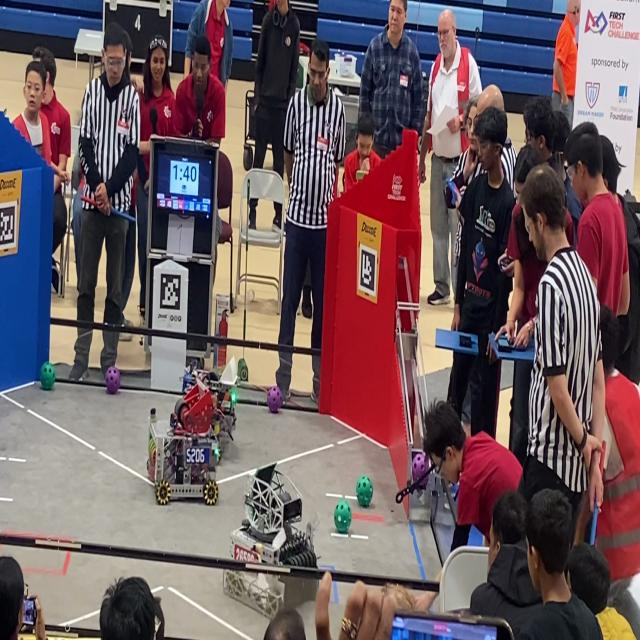artifact_green: (334, 500, 351, 533), (356, 476, 373, 507), (40, 362, 55, 390), (243, 144, 253, 171), (238, 358, 248, 381), (214, 446, 221, 461)
artifact_purple: (412, 453, 426, 482), (267, 386, 282, 413), (105, 367, 120, 394)
